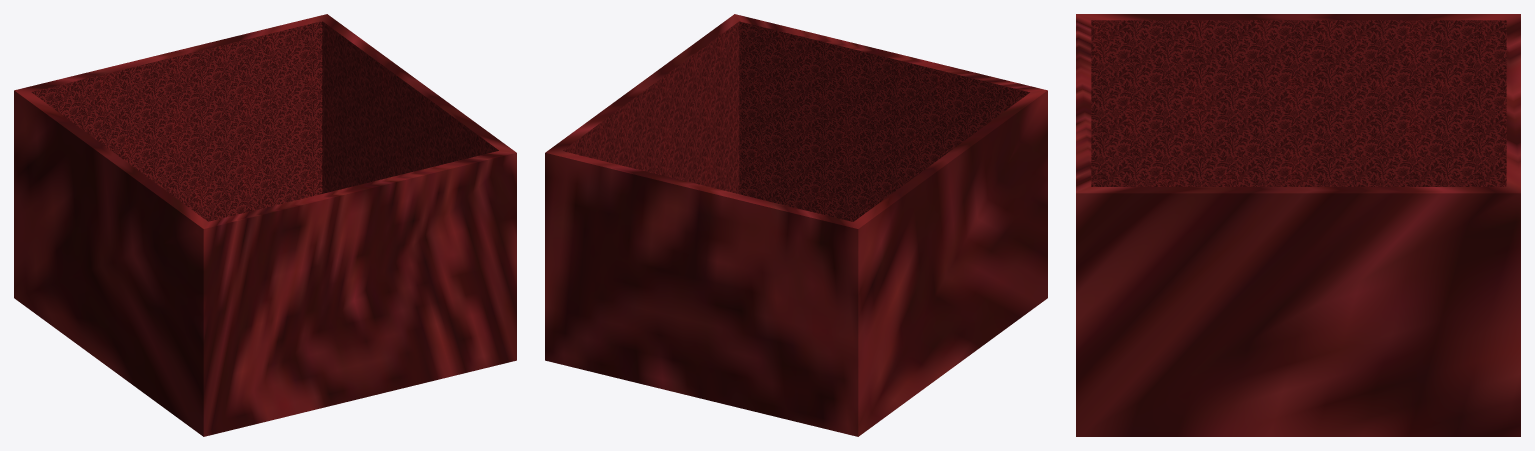
The picture shows the model from 3 angles, left to right: view 1: azimuth 30°, elevation 25°; view 2: azimuth 150°, elevation 25°; view 3: azimuth 270°, elevation 25°; orthographic projection. The views are drawn at different scales.
Visible parts, largest first — view 1: wall:pCube3; view 2: wall:pCube3; view 3: wall:pCube3.
Part boxes in pixels (bbox=[...]): wall:pCube3: bbox=[14, 14, 516, 436]; wall:pCube3: bbox=[545, 14, 1047, 436]; wall:pCube3: bbox=[1076, 14, 1520, 436].
Size of the model in its own units: 15.27 by 9.69 by 16.01.
Materials: 3 (3 with a texture image).
